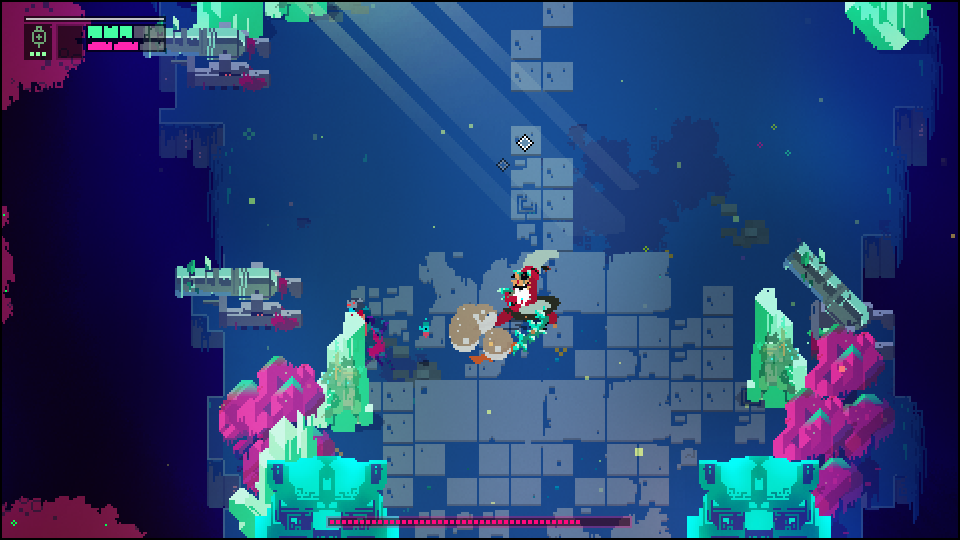hanged_man: (492, 243, 556, 368)
